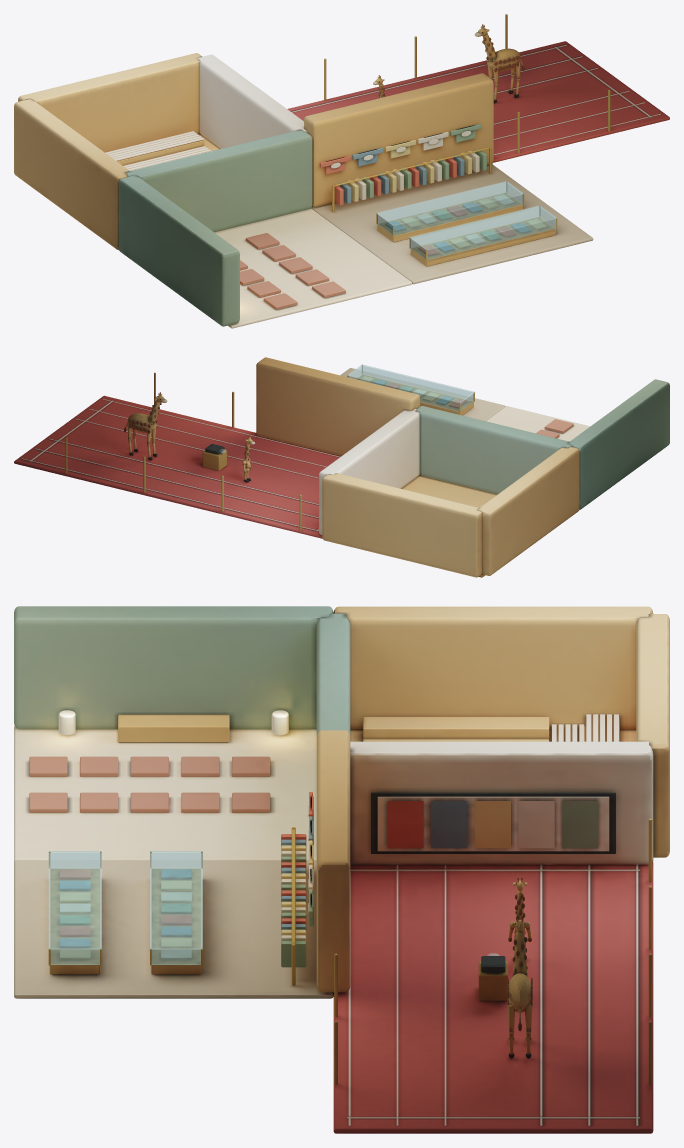
The model's file is riraji_baked.glb.
3 renders of one model, top to bottom at view 1: azimuth 30°, elevation 25°; view 2: azimuth 150°, elevation 25°; view 3: azimuth 270°, elevation 25°, orthographic. The views are drawn at different scales.
Parts seen in each view (by area): view 1: Sports_Floor, Vintage_Tshirt_Wall, Vintage_Floor, Prayer_Back_Wall, Sauna_Back_Wall, Prayer_Left_Wall, Supporters_Floor, Sauna_Left_Wall, Shared_Sauna_Sports_Wall, Showcase_Top_Glass.001, Showcase_Top_Glass, Showcase_Base_0 (+6 smaller); view 2: Sports_Floor, Sauna_Back_Wall, Vintage_Tshirt_Wall, Prayer_Back_Wall, Sauna_Left_Wall, Prayer_Left_Wall, Shared_Sauna_Sports_Wall, Showcase_Top_Glass, Sauna_Floor, Supporters_Floor, Vintage_Floor, Showcase_Side_Glass (+7 smaller); view 3: Sports_Floor, Prayer_Left_Wall, Sauna_Left_Wall, Supporters_Floor, Vintage_Floor, Shared_Sauna_Sports_Wall, Vintage_Tshirt_Wall, Sauna_Back_Wall, Showcase_Top_Glass, Showcase_Top_Glass.001, Projection_Screen, West_Bench_Tier_1 (+31 smaller).
Boxes of the visible parts, x1,y1,x2,y2 form: Sports_Floor: (287, 41, 669, 162); Vintage_Tshirt_Wall: (304, 73, 493, 207); Vintage_Floor: (311, 164, 593, 284); Prayer_Back_Wall: (125, 129, 312, 232); Sauna_Back_Wall: (18, 53, 202, 152); Prayer_Left_Wall: (118, 175, 239, 326); Supporters_Floor: (214, 208, 412, 328); Sauna_Left_Wall: (14, 99, 129, 249); Shared_Sauna_Sports_Wall: (198, 54, 307, 148); Showcase_Top_Glass.001: (376, 181, 524, 226); Showcase_Top_Glass: (409, 205, 557, 250); Showcase_Base_0: (410, 217, 555, 266); Sports_Floor: (14, 395, 340, 538); Sauna_Back_Wall: (322, 473, 482, 577); Vintage_Tshirt_Wall: (256, 357, 419, 456); Prayer_Back_Wall: (415, 406, 572, 494); Sauna_Left_Wall: (478, 446, 579, 575); Prayer_Left_Wall: (568, 379, 669, 509); Shared_Sauna_Sports_Wall: (319, 409, 419, 534); Showcase_Top_Glass: (347, 364, 474, 403); Sauna_Floor: (401, 475, 497, 577); Supporters_Floor: (486, 406, 589, 441); Vintage_Floor: (340, 368, 505, 421); Showcase_Side_Glass: (363, 365, 473, 400); Sports_Floor: (333, 861, 653, 1133); Prayer_Left_Wall: (14, 606, 333, 729); Sauna_Left_Wall: (333, 606, 653, 729); Supporters_Floor: (14, 726, 316, 861); Vintage_Floor: (14, 860, 333, 998); Shared_Sauna_Sports_Wall: (350, 741, 653, 864); Vintage_Tshirt_Wall: (316, 730, 350, 992); Sauna_Back_Wall: (636, 614, 669, 857); Showcase_Top_Glass: (48, 851, 101, 949); Showcase_Top_Glass.001: (150, 851, 202, 949); Projection_Screen: (377, 796, 609, 851); West_Bench_Tier_1: (363, 717, 549, 739).
Size of what is drawn, in the model's own units: 36.63 by 5.62 by 24.63.
Materials: 2 (1 with a texture image).
